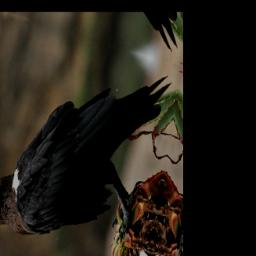Crow: (0, 25, 173, 256)
